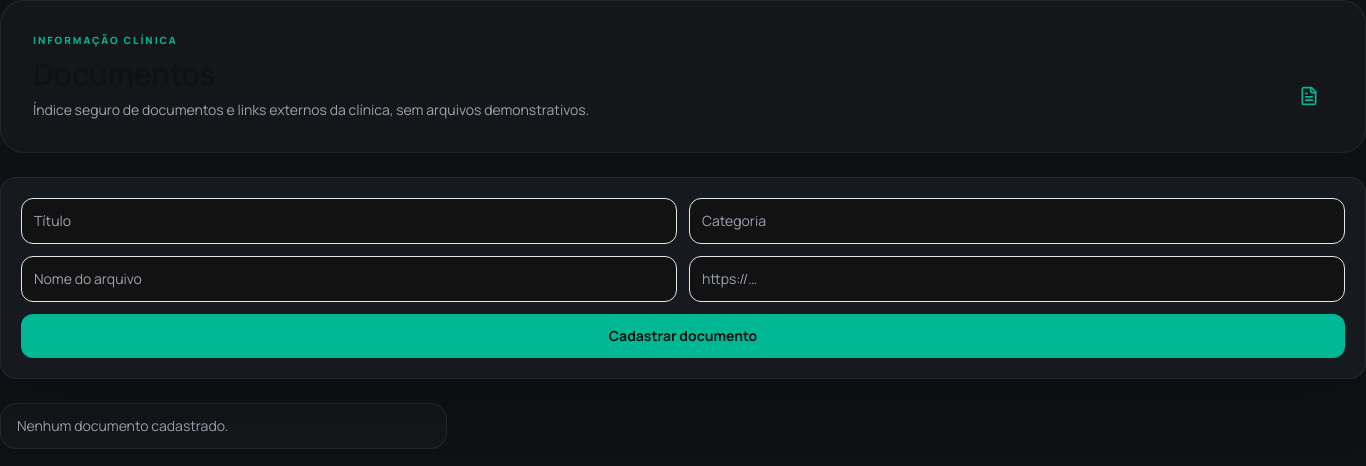
Scenario: formulários operacionais › limpa documento após persistir sem exibir falso erro
Type "Consentimento" into the field with placeholder "Título" at (349,221), box [21, 198, 677, 244]
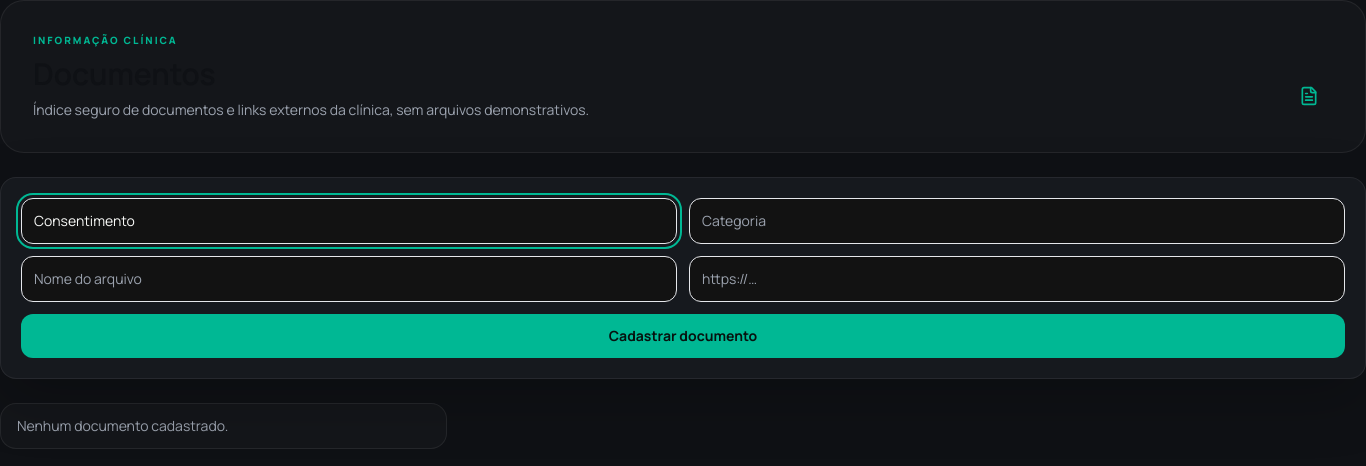
Type "Clínico" into the field with placeholder "Categoria" at (1017,221), box [689, 198, 1345, 244]
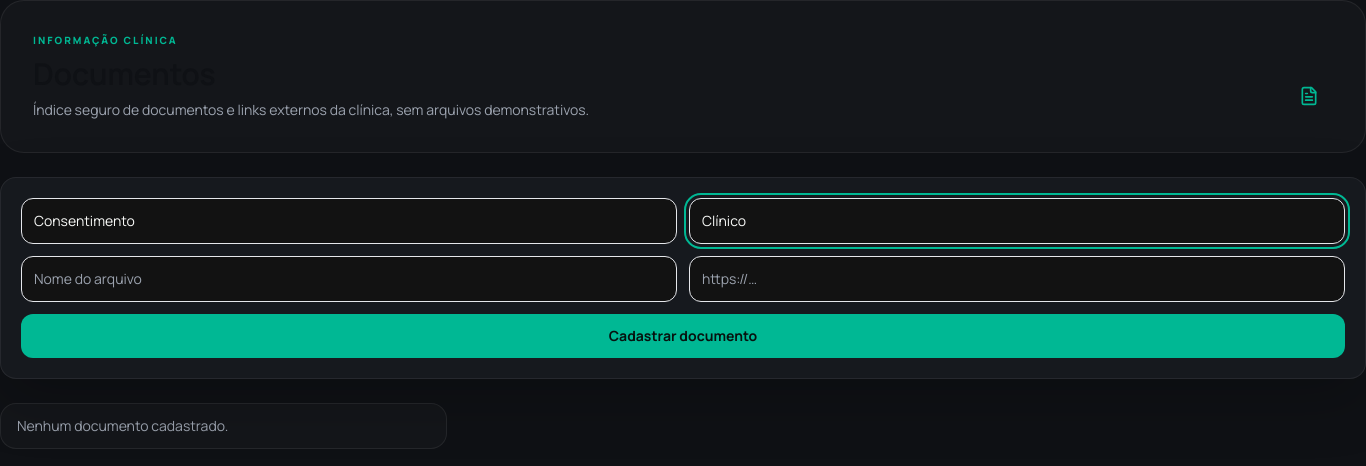
Type "consentimento.pdf" into the field with placeholder "Nome do arquivo" at (349,279), box [21, 256, 677, 302]
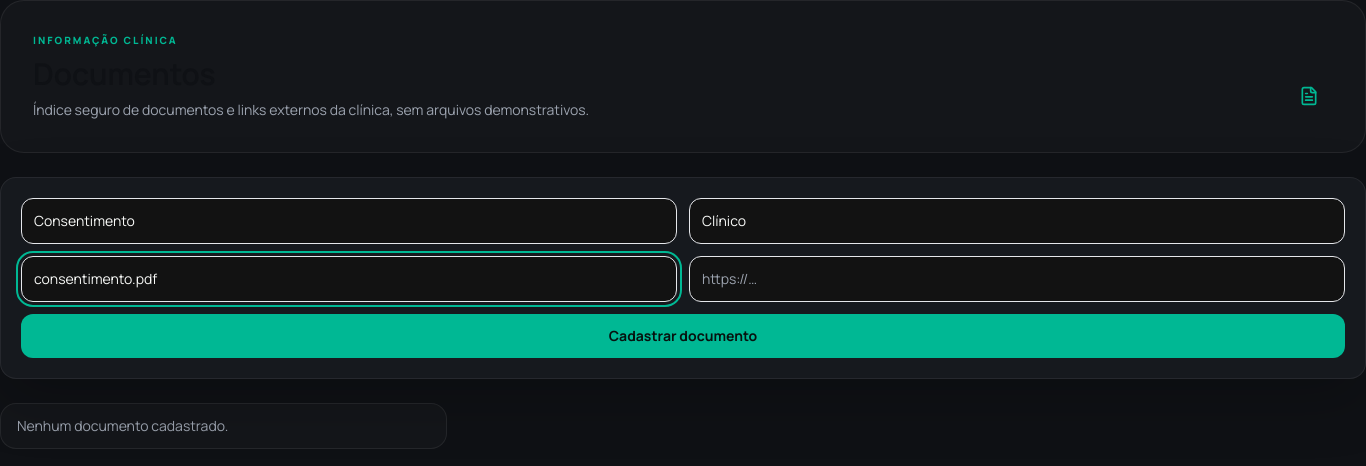
Type "https://example.test/consentimento.pdf" into the field with placeholder "https://…" at (1017,279), box [689, 256, 1345, 302]
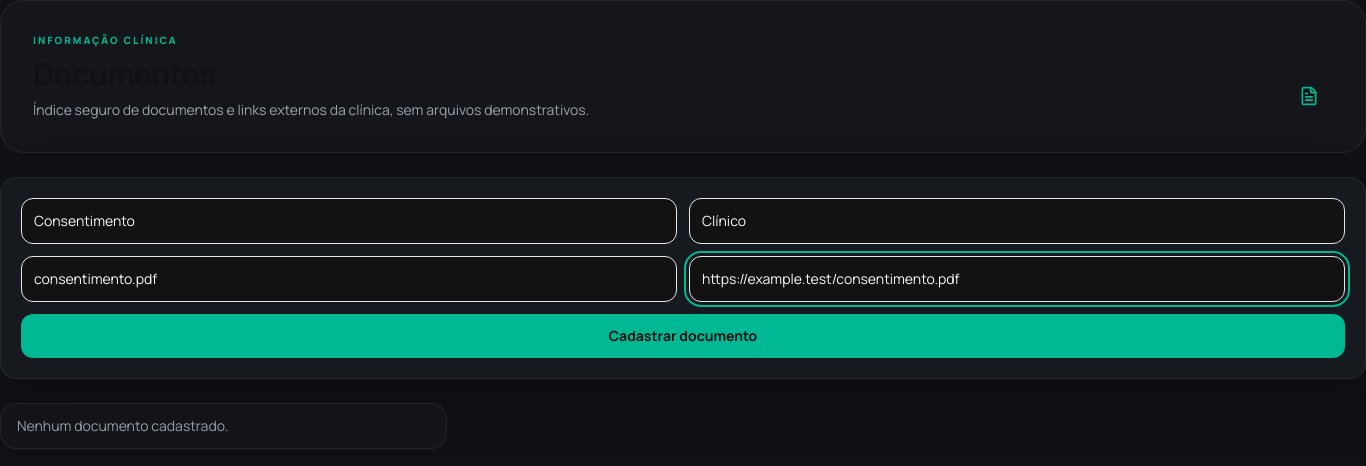
Click the button "Cadastrar documento" at (683,336), box [21, 314, 1345, 358]
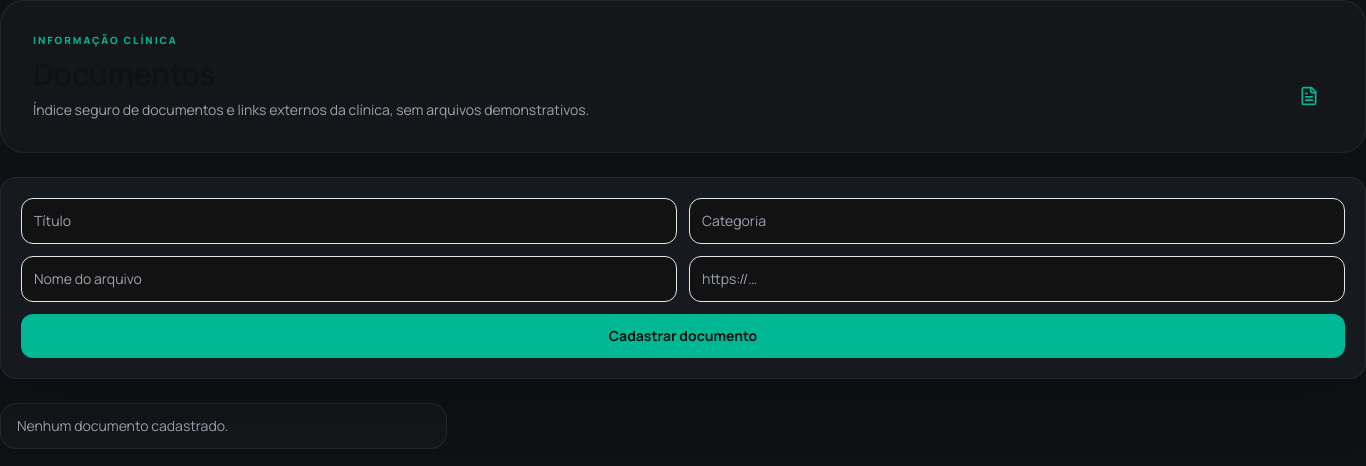
Expected: the field with placeholder "Título" is empty, [21, 198, 677, 244]
